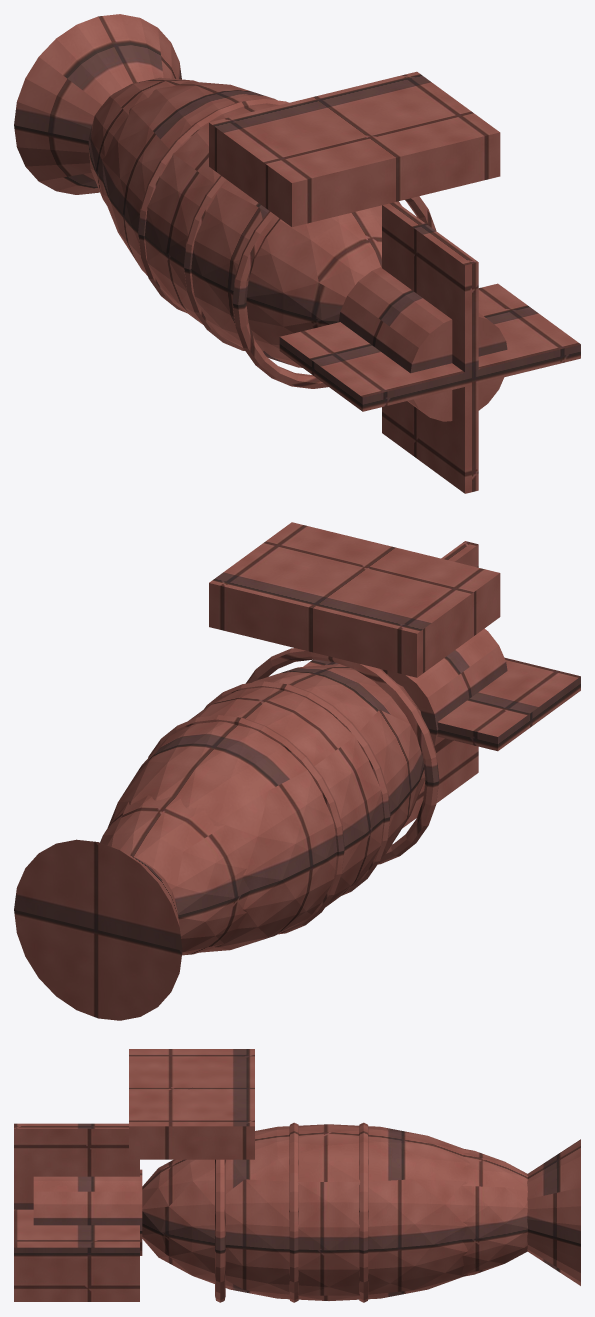
Rendered from nova_bomb.glb.
3 renders of one model, top to bottom at view 1: azimuth 30°, elevation 25°; view 2: azimuth 150°, elevation 25°; view 3: azimuth 270°, elevation 25°, orthographic. The views are drawn at different scales.
Parts seen in each view (by area): view 1: faceted_casing, mount_yoke, nose_cap, tail_fin_1, tail_fin_0, tail_shaft, safety_band_2, projectile_casing, safety_band_0, safety_band_1; view 2: faceted_casing, mount_yoke, nose_cap, projectile_casing, tail_fin_0, tail_shaft, safety_band_2, safety_band_0, tail_fin_1, safety_band_1; view 3: faceted_casing, mount_yoke, tail_fin_1, projectile_casing, nose_cap, tail_shaft, tail_fin_0, safety_band_0, safety_band_1, safety_band_2.
Part boxes in pixels (box(x1,y1,x2,y2)): faceted_casing: box(102, 81, 401, 367); mount_yoke: box(209, 71, 500, 227); nose_cap: box(14, 14, 181, 194); tail_fin_1: box(382, 202, 478, 493); tail_fin_0: box(279, 283, 580, 411); tail_shaft: box(339, 266, 507, 421); safety_band_2: box(232, 196, 436, 388); projectile_casing: box(88, 77, 197, 205); safety_band_0: box(138, 99, 288, 312); safety_band_1: box(184, 175, 244, 350); faceted_casing: box(107, 664, 425, 952); mount_yoke: box(209, 522, 500, 677); nose_cap: box(14, 839, 182, 1020); projectile_casing: box(100, 795, 250, 955); tail_fin_0: box(303, 657, 580, 751); tail_shaft: box(381, 628, 507, 752); safety_band_2: box(246, 648, 439, 864); safety_band_0: box(148, 715, 344, 934); tail_fin_1: box(402, 541, 478, 828); safety_band_1: box(204, 681, 390, 895); faceted_casing: box(142, 1124, 469, 1300); mount_yoke: box(129, 1049, 254, 1159); tail_fin_1: box(14, 1123, 139, 1301); projectile_casing: box(461, 1148, 527, 1276); nose_cap: box(527, 1139, 580, 1285); tail_shaft: box(33, 1169, 142, 1255); tail_fin_0: box(14, 1209, 139, 1258); safety_band_0: box(359, 1122, 368, 1302); safety_band_1: box(289, 1122, 298, 1302); safety_band_2: box(215, 1159, 225, 1302).
Bounding box in the file's own units: 0.88 × 1.07 × 2.61.
Materials: 1 (1 with a texture image).
